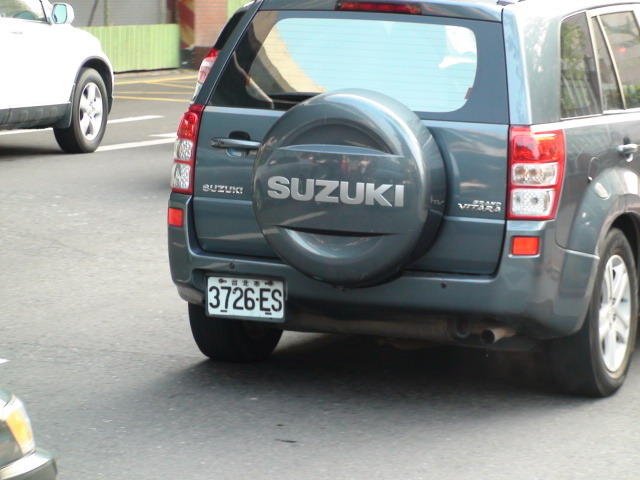plate: (203, 270, 286, 321)
